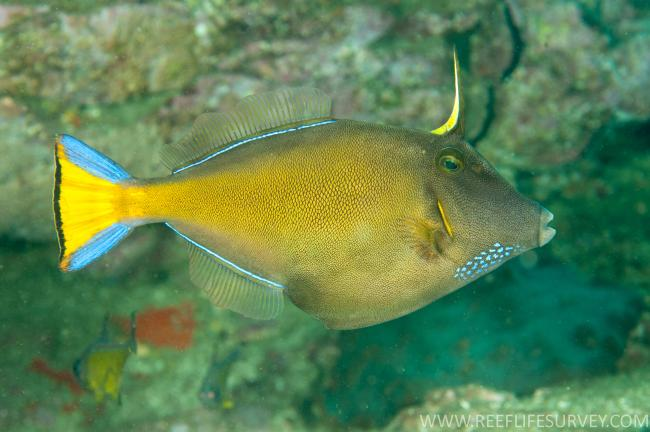fish: (53, 86, 558, 329)
